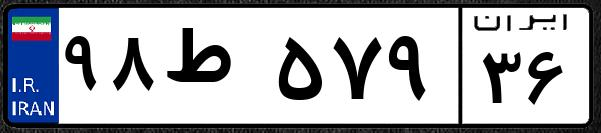3: (475, 38, 525, 113)
5: (270, 28, 330, 110)
6: (525, 38, 570, 115)
7: (330, 28, 385, 110)
8: (110, 28, 158, 98)
9: (385, 28, 445, 110), (57, 26, 110, 100)
ط: (158, 20, 270, 120)
